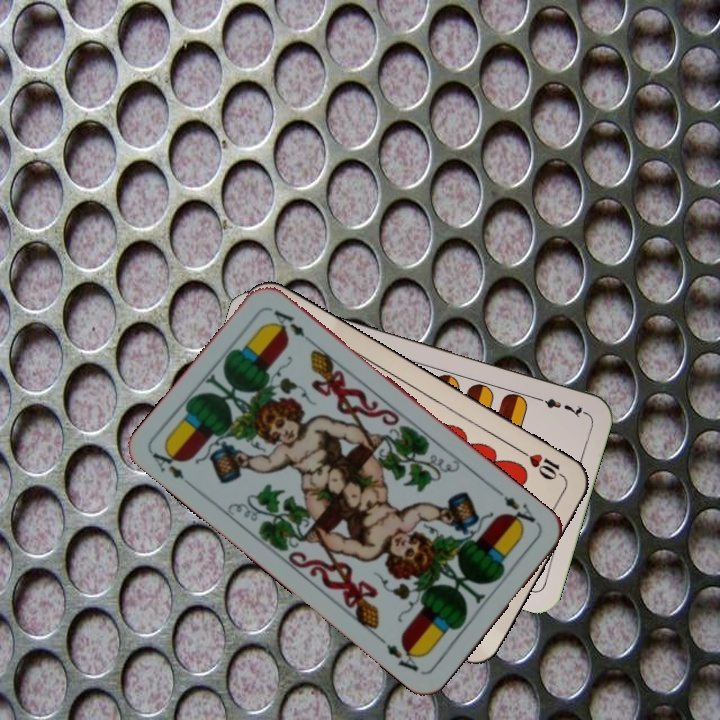E7: (530, 392, 588, 421)
EA: (148, 442, 197, 492), (493, 486, 539, 531)
H10: (516, 446, 569, 484)
